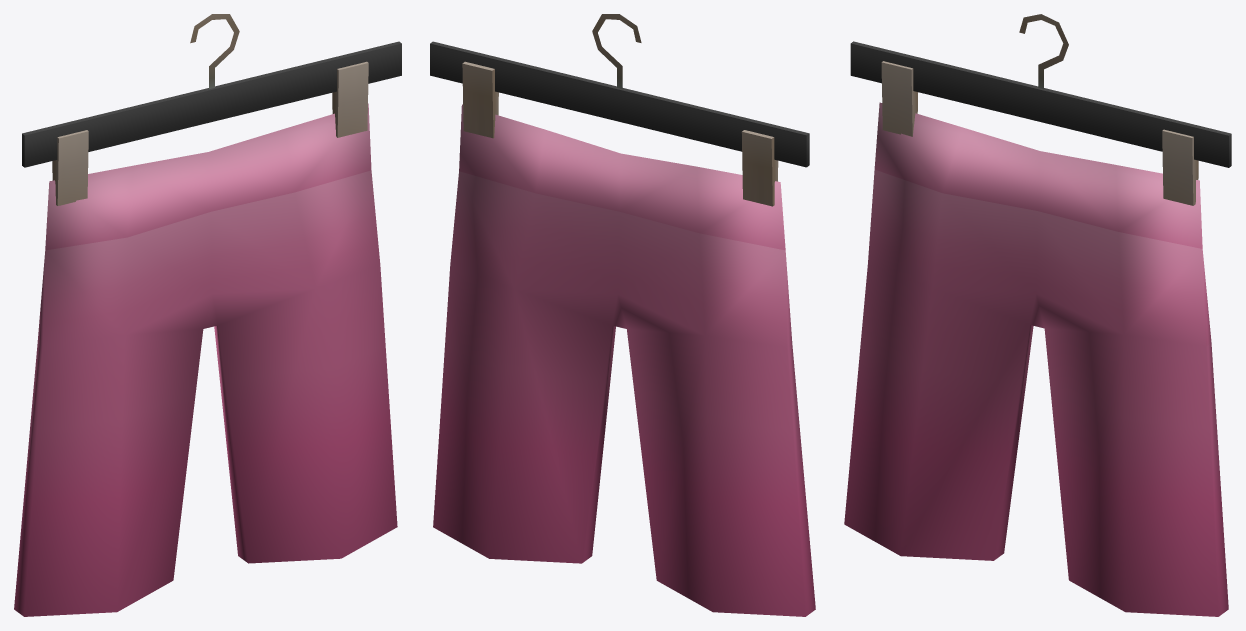
Rendered from Hang_Pants_03.fbx.
3 renders of one model, left to right at view 1: azimuth 30°, elevation 25°; view 2: azimuth 150°, elevation 25°; view 3: azimuth 330°, elevation 25°, orthographic.
Parts seen in each view (by area): view 1: Hang_Pants_03; view 2: Hang_Pants_03; view 3: Hang_Pants_03.
Boxes of the visible parts, left/top/right/bottom form: Hang_Pants_03: left=14, top=14, right=401, bottom=616; Hang_Pants_03: left=430, top=14, right=815, bottom=616; Hang_Pants_03: left=844, top=14, right=1231, bottom=616.
Bounding box in the file's own units: 0.1566 × 0.2177 × 0.0335.
